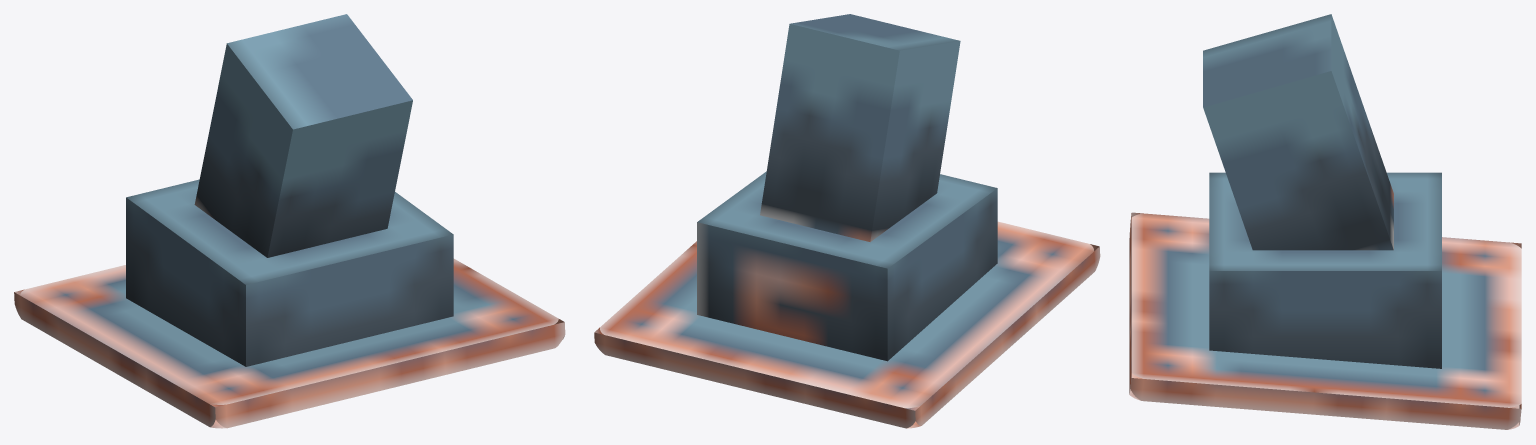
The model's file is electromancer.geo.obj.
3 renders of one model, left to right at view 1: azimuth 30°, elevation 25°; view 2: azimuth 150°, elevation 25°; view 3: azimuth 270°, elevation 25°, orthographic. The views are drawn at different scales.
Visible parts, largest first — view 1: armorHead; view 2: armorHead; view 3: armorHead.
Boxes of the visible parts, box(x1,y1,x2,y2) form: armorHead: box(14, 14, 565, 428); armorHead: box(594, 14, 1100, 428); armorHead: box(1129, 14, 1521, 429).
Size of the model in its own units: 1 by 0.8618 by 1.
